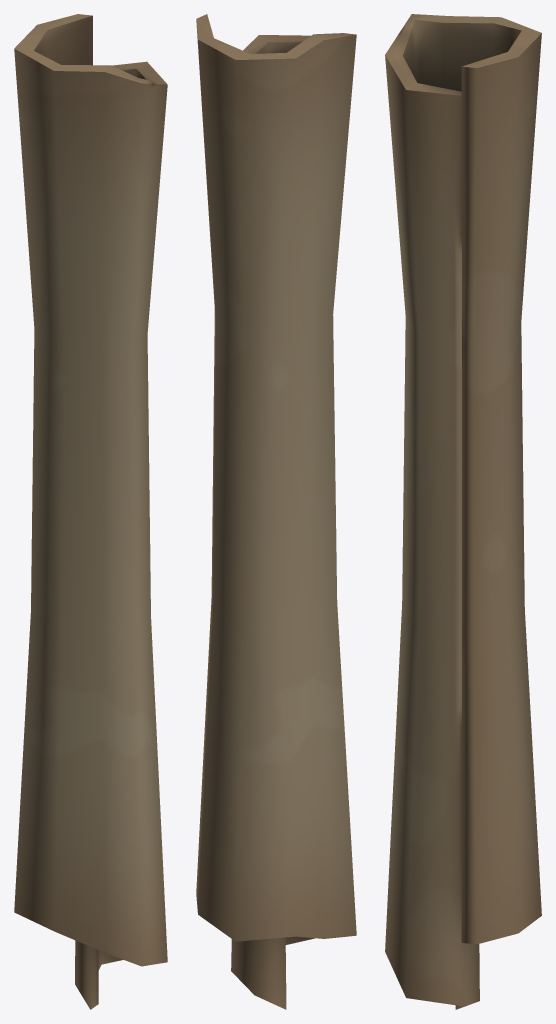
Rendered from Scroll_C.fbx.
3 renders of one model, left to right at view 1: azimuth 90°, elevation 25°; view 2: azimuth 150°, elevation 25°; view 3: azimuth 270°, elevation 25°, orthographic. The views are drawn at different scales.
Parts seen in each view (by area): view 1: U_Scroll_C; view 2: U_Scroll_C; view 3: U_Scroll_C.
Part boxes in pixels (x1,y1,x2,y2): U_Scroll_C: (14,14,167,1009); U_Scroll_C: (196,14,356,1009); U_Scroll_C: (385,14,541,1009).
Bounding box in the file's own units: 10.27 × 74.77 × 10.88.
1 material, 1 textured.
